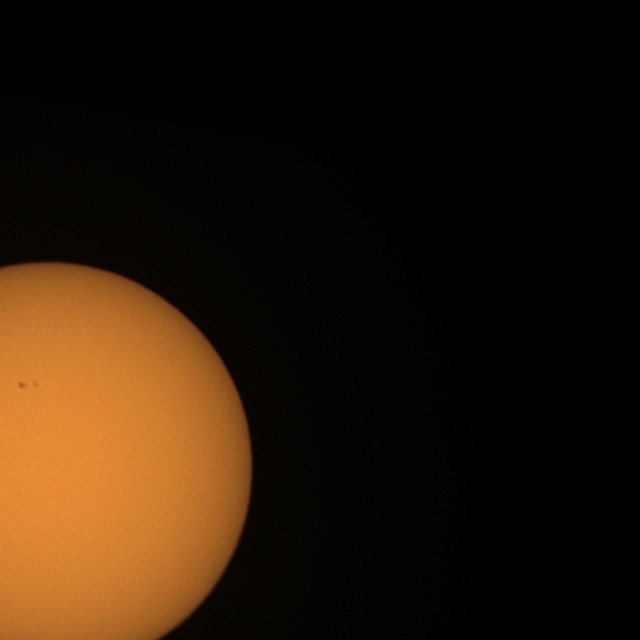sunspot: (17, 379, 39, 391)
